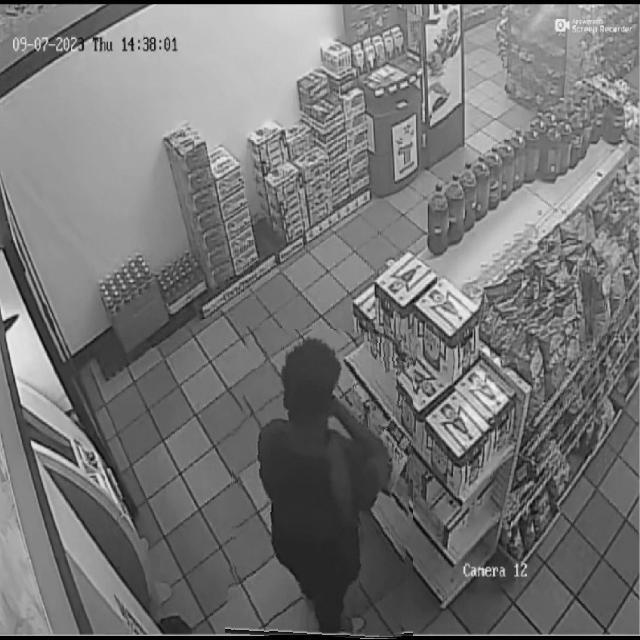Normal: (230, 329, 413, 640)
